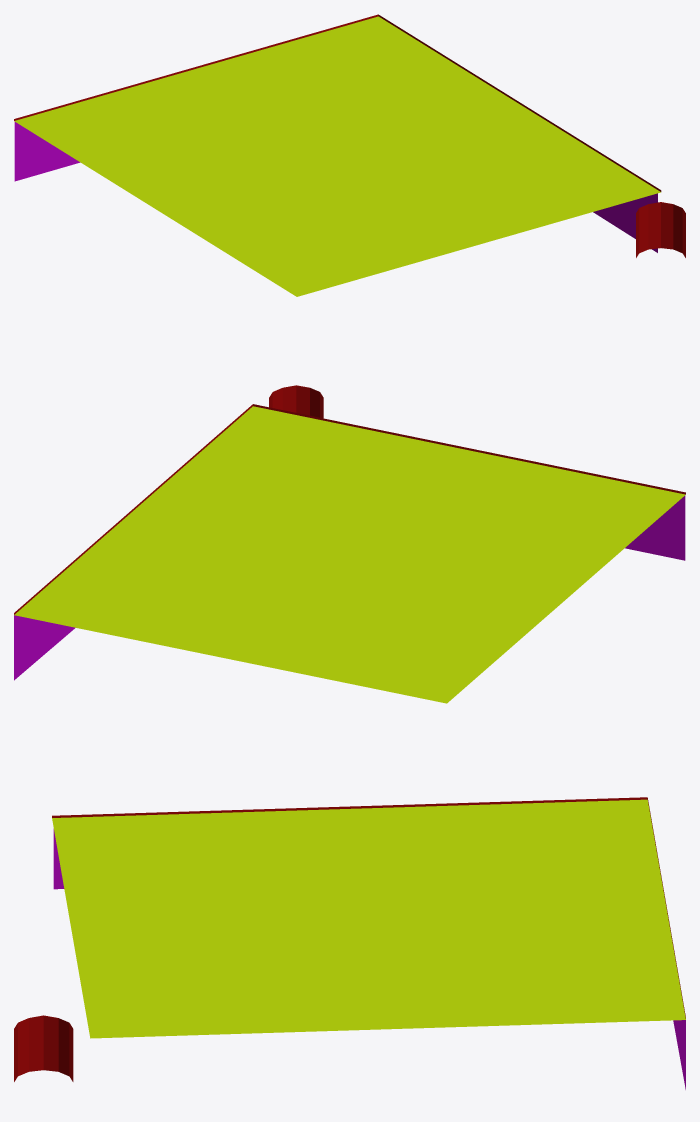
File: logistique_rose.glb
3 views of the same model, one above another, from view 1: azimuth 30°, elevation 25°; view 2: azimuth 150°, elevation 25°; view 3: azimuth 270°, elevation 25° (orthographic). The views are drawn at different scales.
Parts seen in each view (by area): view 1: logistique_rose; view 2: logistique_rose; view 3: logistique_rose.
Boxes of the visible parts, left/top/right/bottom form: logistique_rose: left=14, top=14, right=685, bottom=296; logistique_rose: left=14, top=385, right=685, bottom=703; logistique_rose: left=14, top=797, right=685, bottom=1089.
Size of the model in its own units: 76.41 by 12.29 by 90.48.
